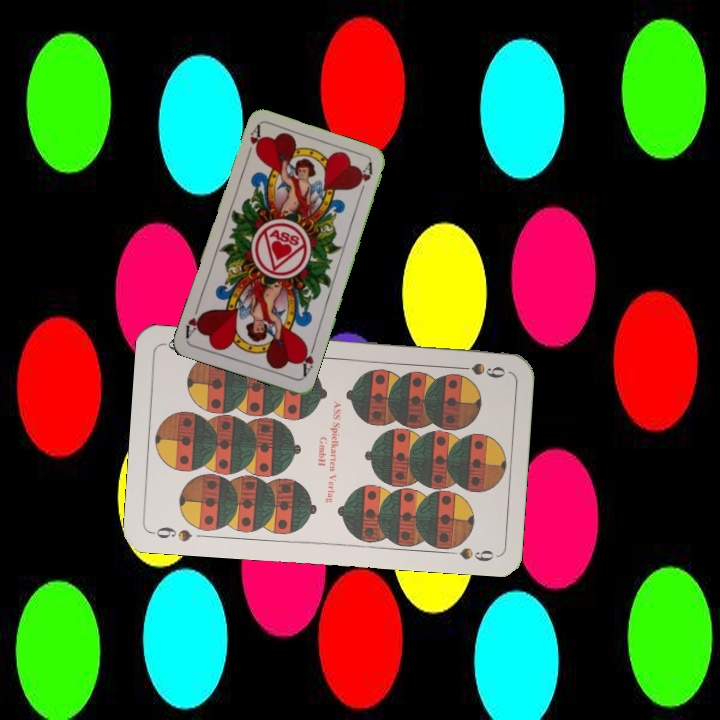HA: (242, 122, 265, 162), (296, 340, 318, 379)
S9: (449, 358, 508, 381), (147, 522, 195, 544)
